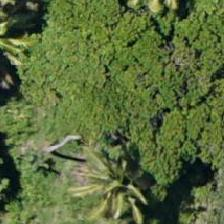coconut_tree: (67, 139, 157, 223)
